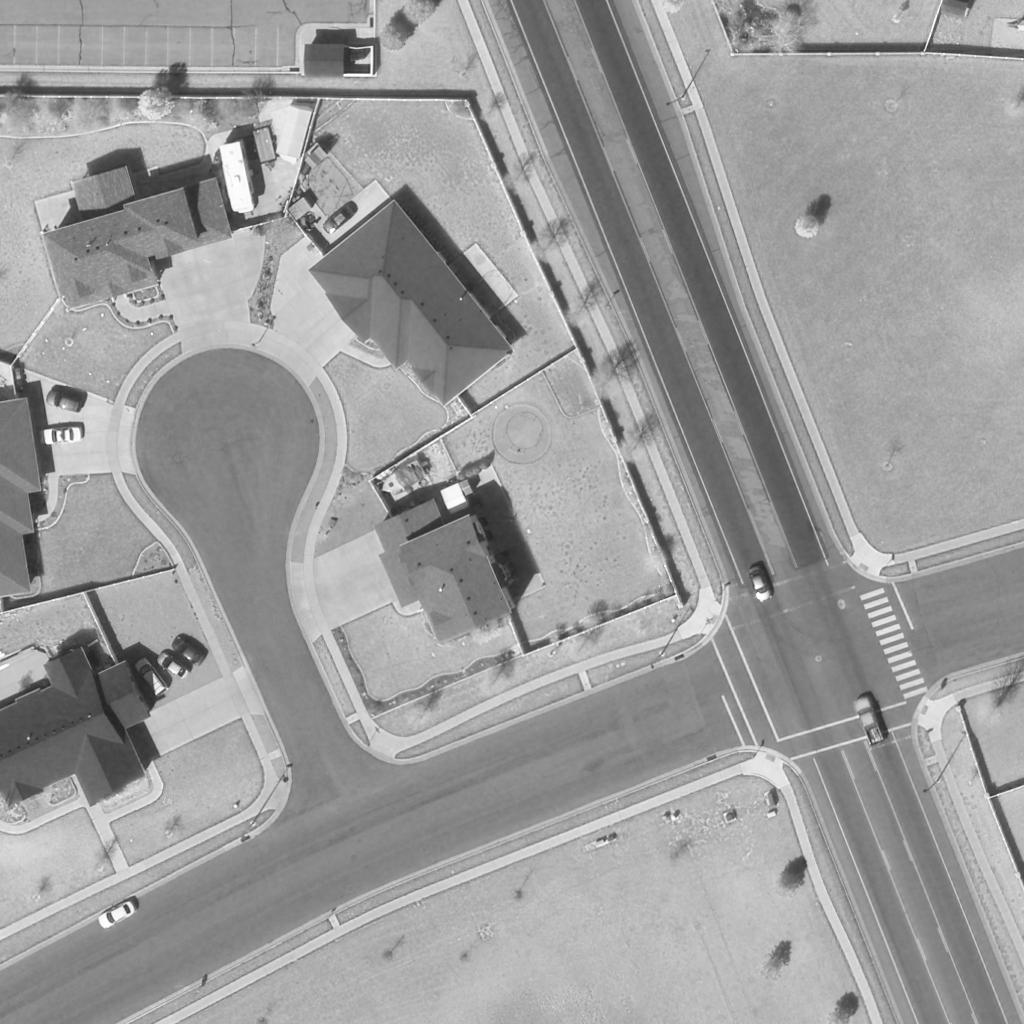vehicle: (217, 142, 257, 214), (376, 462, 426, 498), (852, 700, 886, 748), (133, 657, 169, 699), (95, 900, 137, 930), (746, 564, 776, 604), (322, 204, 356, 236), (173, 637, 205, 669), (44, 389, 84, 413), (40, 424, 84, 444), (158, 652, 188, 680)
